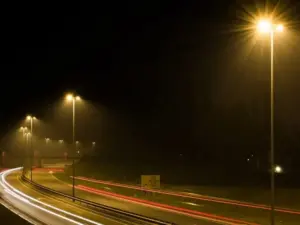HPS: (247, 16, 285, 41), (58, 88, 89, 109), (23, 112, 38, 122)
